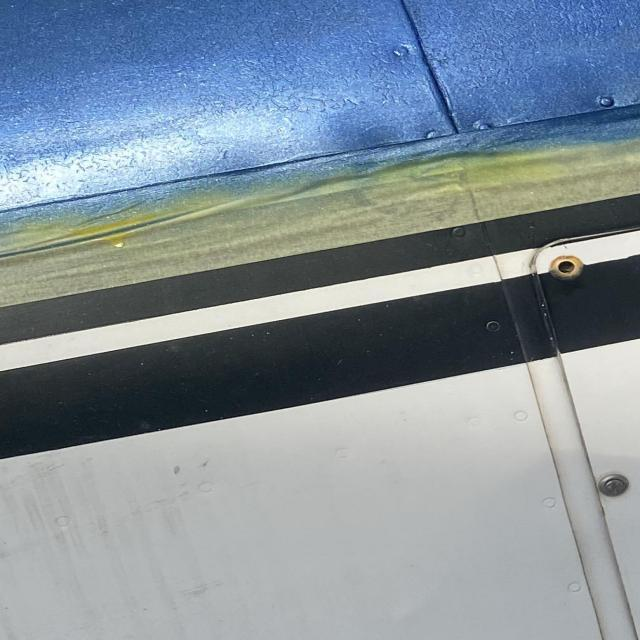Fastener Damage: (548, 255, 584, 281)
